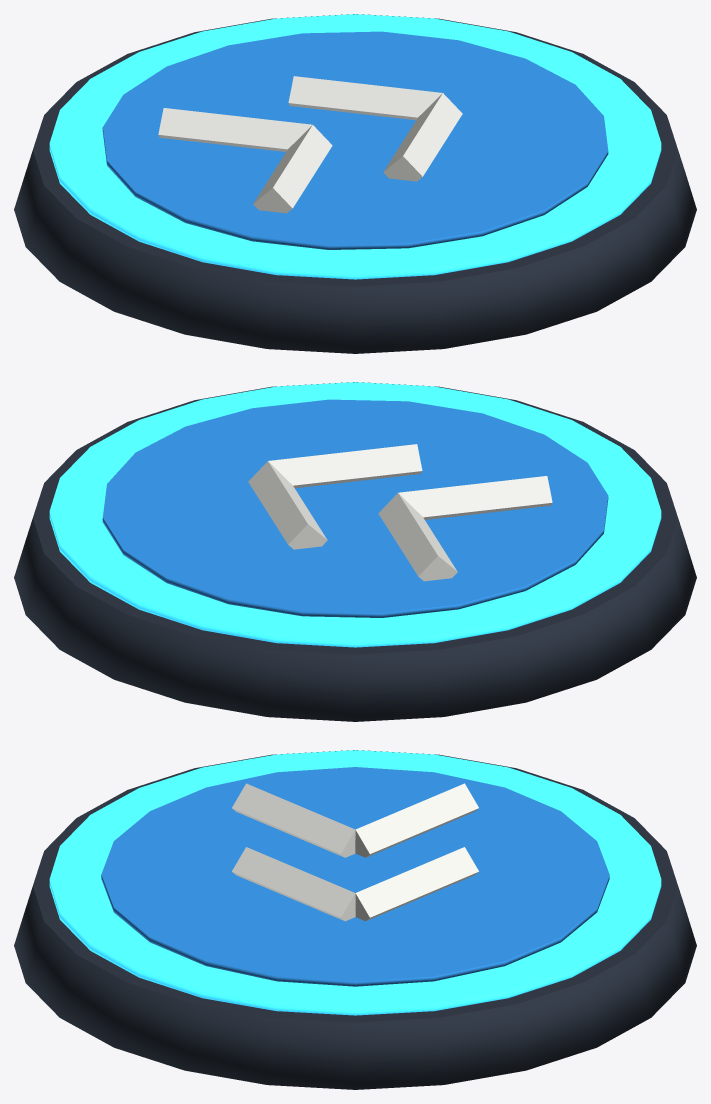
File: launch_pad.glb
3 renders of one model, top to bottom at view 1: azimuth 30°, elevation 25°; view 2: azimuth 150°, elevation 25°; view 3: azimuth 270°, elevation 25°, orthographic.
Parts seen in each view (by area): view 1: Top, Pad base, Luminous ring, Chevron, Chevron.002, Chevron.003, Chevron.001; view 2: Top, Pad base, Luminous ring, Chevron.003, Chevron.001, Chevron, Chevron.002; view 3: Top, Pad base, Luminous ring, Chevron.001, Chevron.002, Chevron.003, Chevron.
Boxes of the visible parts, x1,y1,x2,y2 form: Top: (102, 31, 608, 249); Pad base: (14, 14, 696, 353); Luminous ring: (49, 14, 661, 279); Chevron: (288, 76, 442, 120); Chevron.002: (158, 108, 312, 151); Chevron.003: (383, 93, 462, 181); Chevron.001: (253, 125, 332, 213); Top: (102, 399, 608, 617); Pad base: (14, 382, 696, 721); Luminous ring: (49, 382, 661, 647); Chevron.003: (268, 444, 422, 488); Chevron.001: (398, 476, 552, 519); Chevron: (248, 461, 327, 549); Chevron.002: (378, 493, 457, 581); Top: (101, 767, 609, 986); Pad base: (14, 750, 696, 1089); Luminous ring: (49, 750, 661, 1015); Chevron.001: (232, 783, 355, 857); Chevron.002: (355, 783, 478, 857); Chevron.003: (232, 847, 355, 921); Chevron: (355, 847, 478, 921).
Bounding box in the file's own units: 2.5 × 0.385 × 2.5.
